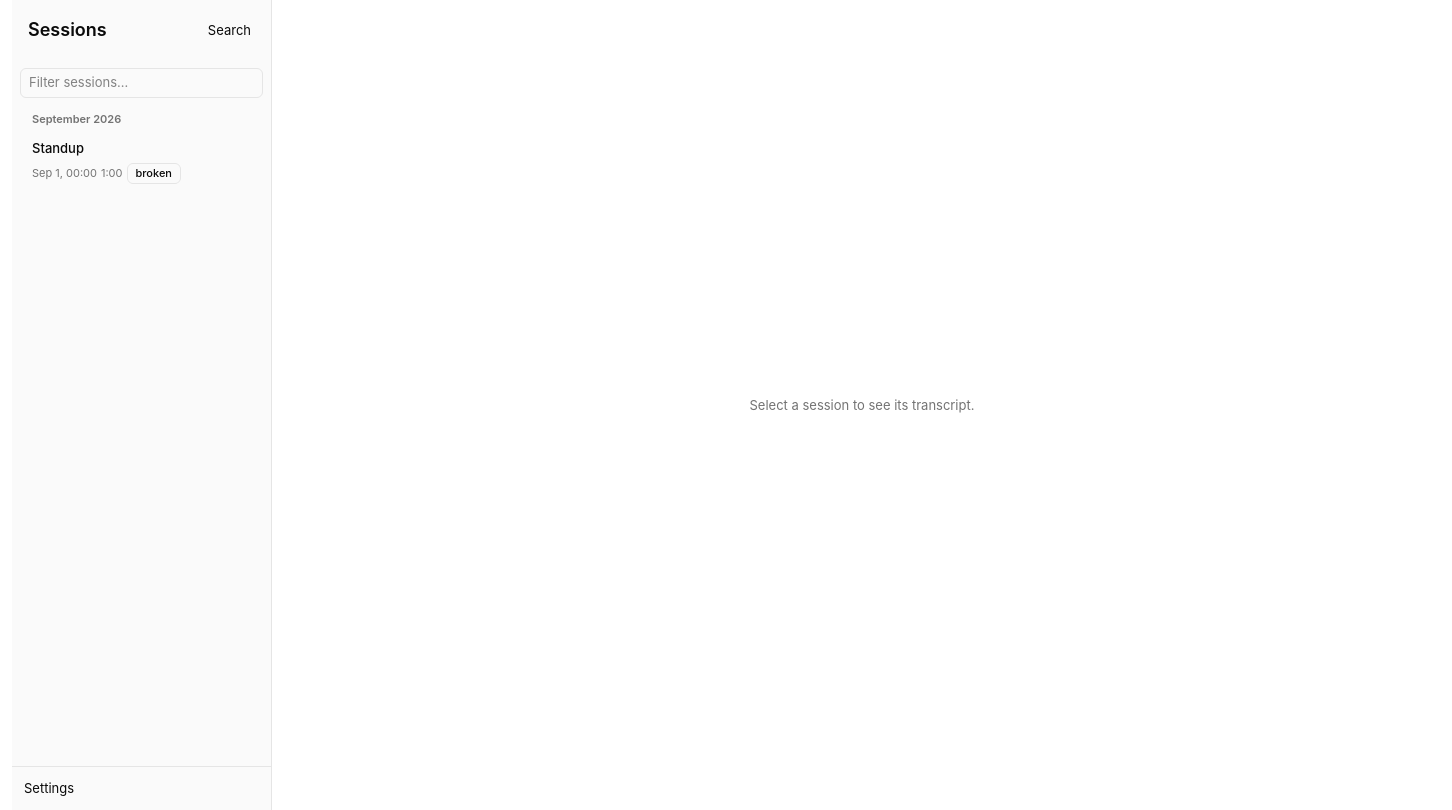
it: Sessions › shows a broken session's error above its transcript
This screenshot has width=1452, height=810.
Click the button "Standup Sep 1, 00:00 1:00 broken". click: (142, 162)
box: [20,134,263,190]
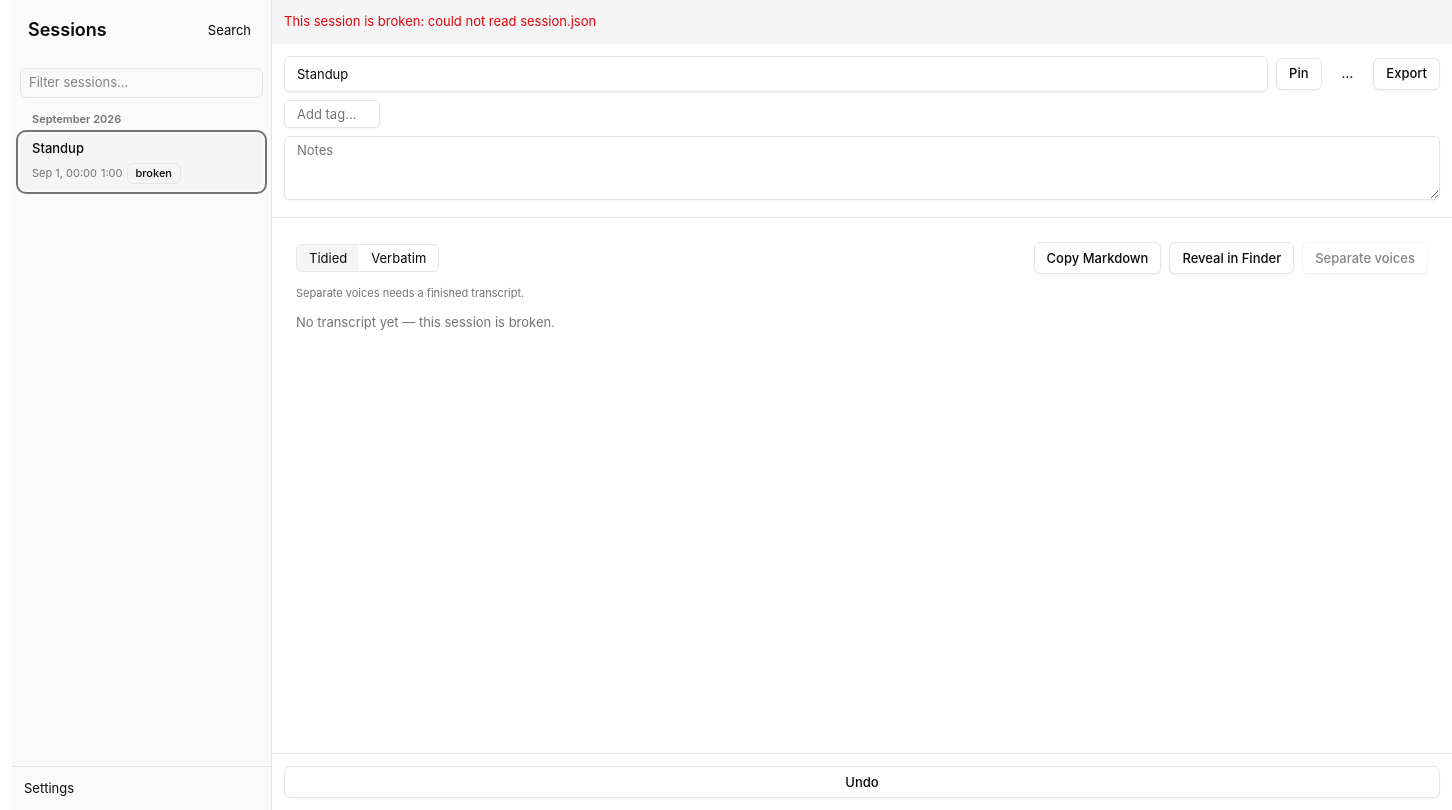
Expected: the message with test id "session-error" shows "could not read session.json", [428,13,596,29]
